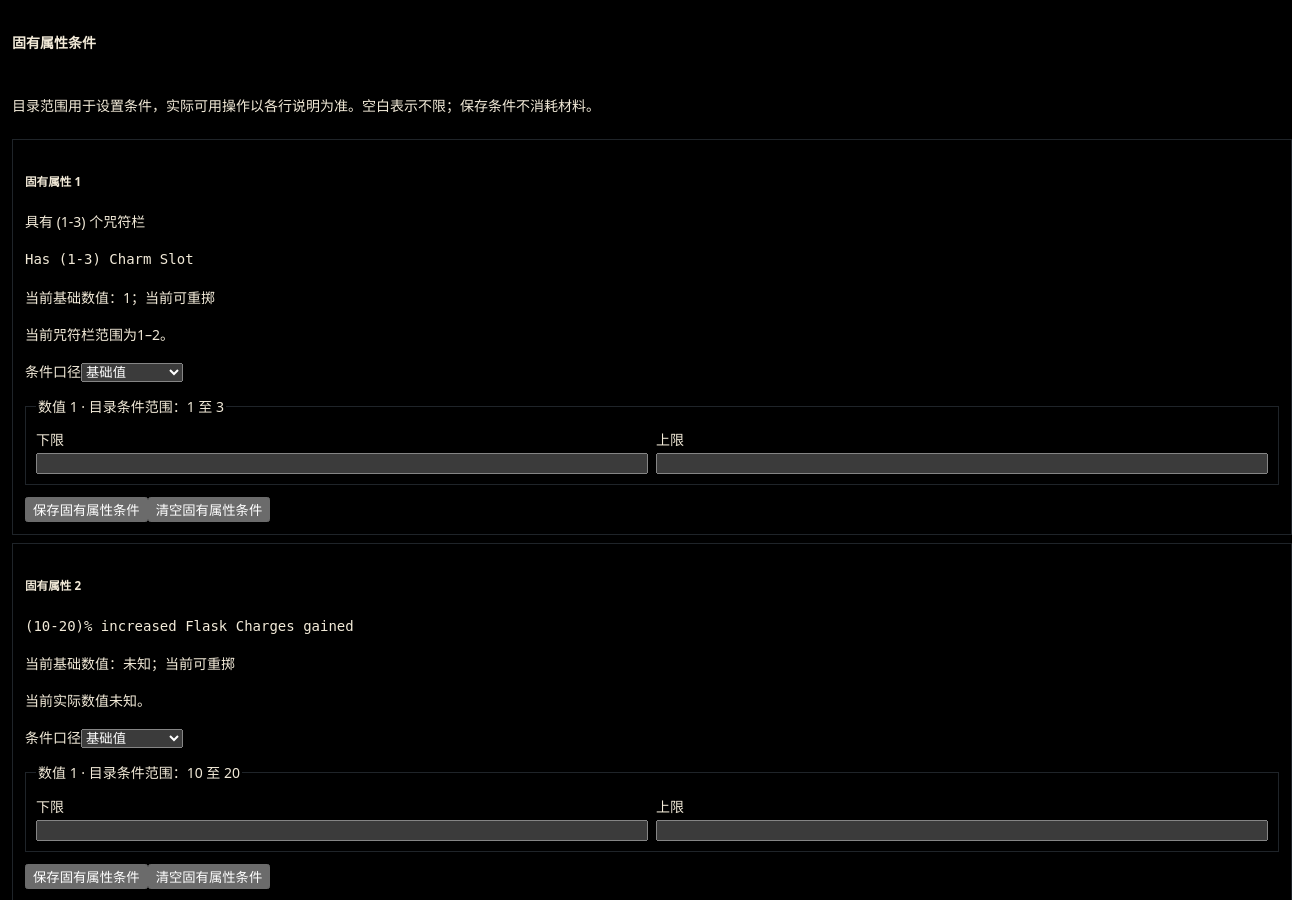
Test case: 未完成数字不会清空已保存条件，越界报错，清空不留旧草稿
This screenshot has width=1292, height=900.
Type "2" into the number field named "固有属性 1 · 数值 1 下限" at coordinates (342, 464), box left=36, top=453, right=648, bottom=474
Click the button with aria-label "保存固有属性 1 条件" at coordinates (86, 510), box left=25, top=497, right=148, bottom=522
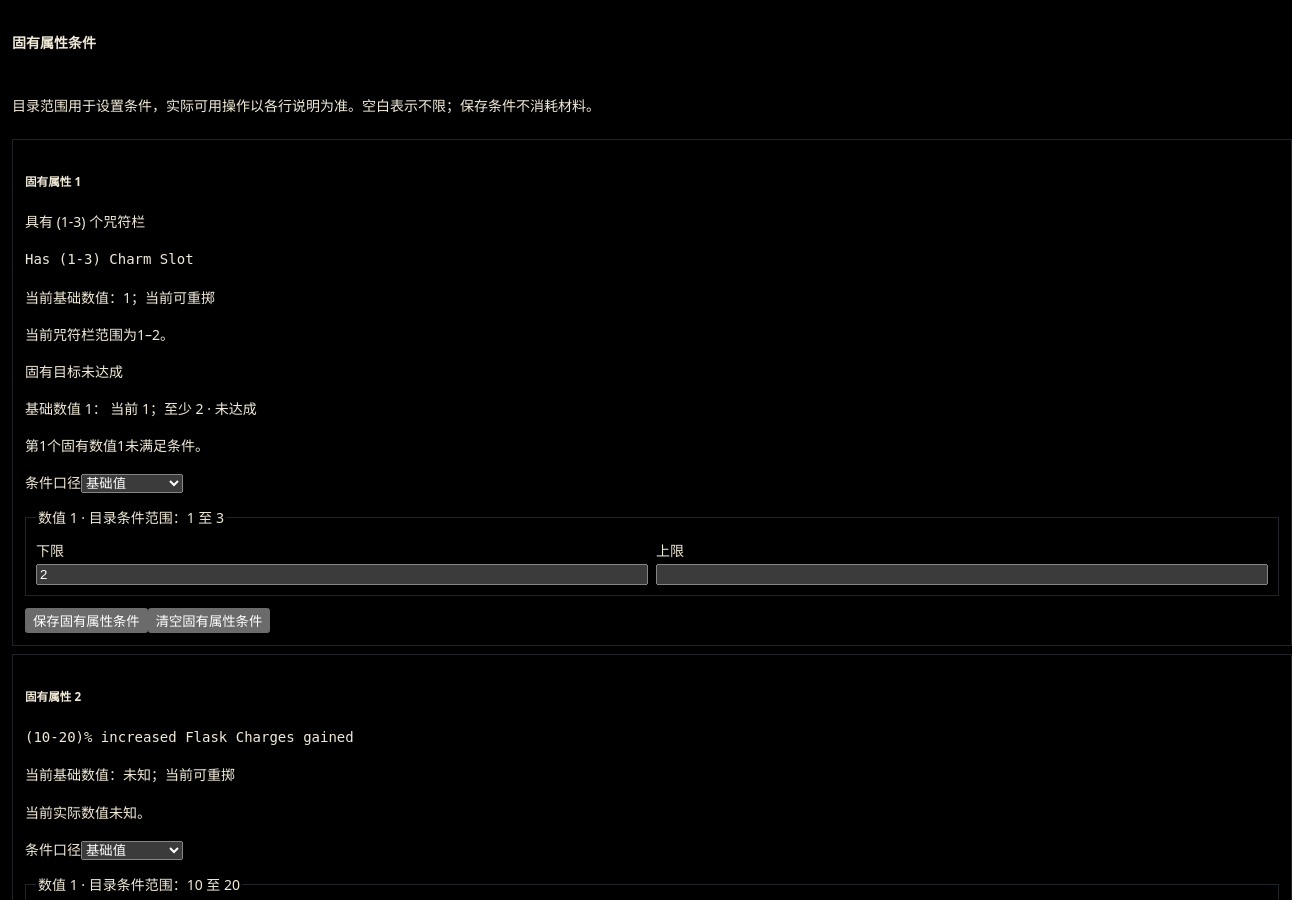
Clear the number field named "固有属性 1 · 数值 1 下限" at coordinates (342, 575), box left=36, top=564, right=648, bottom=585
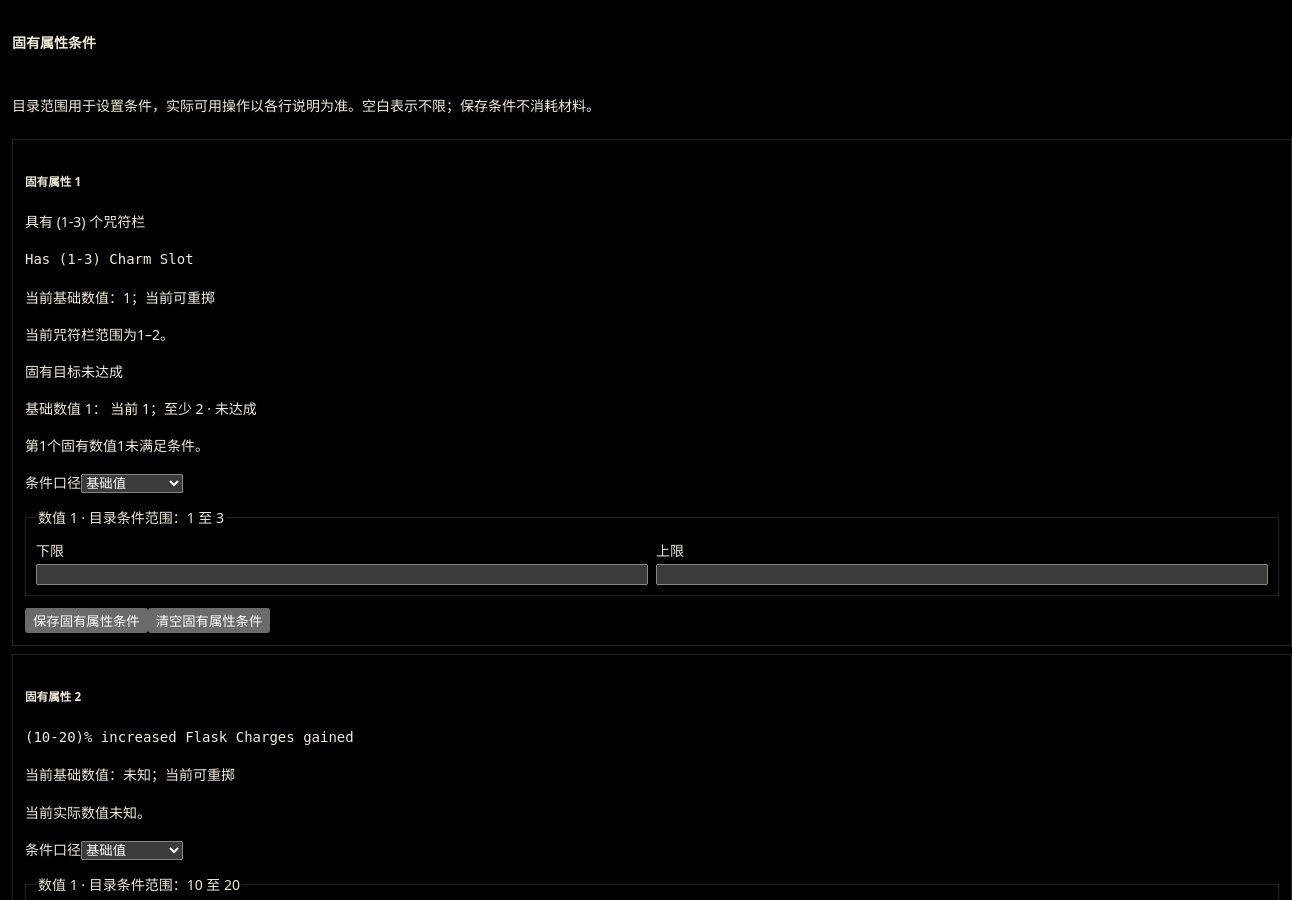
Click the button with aria-label "保存固有属性 1 条件" at coordinates (86, 621), box left=25, top=608, right=148, bottom=633
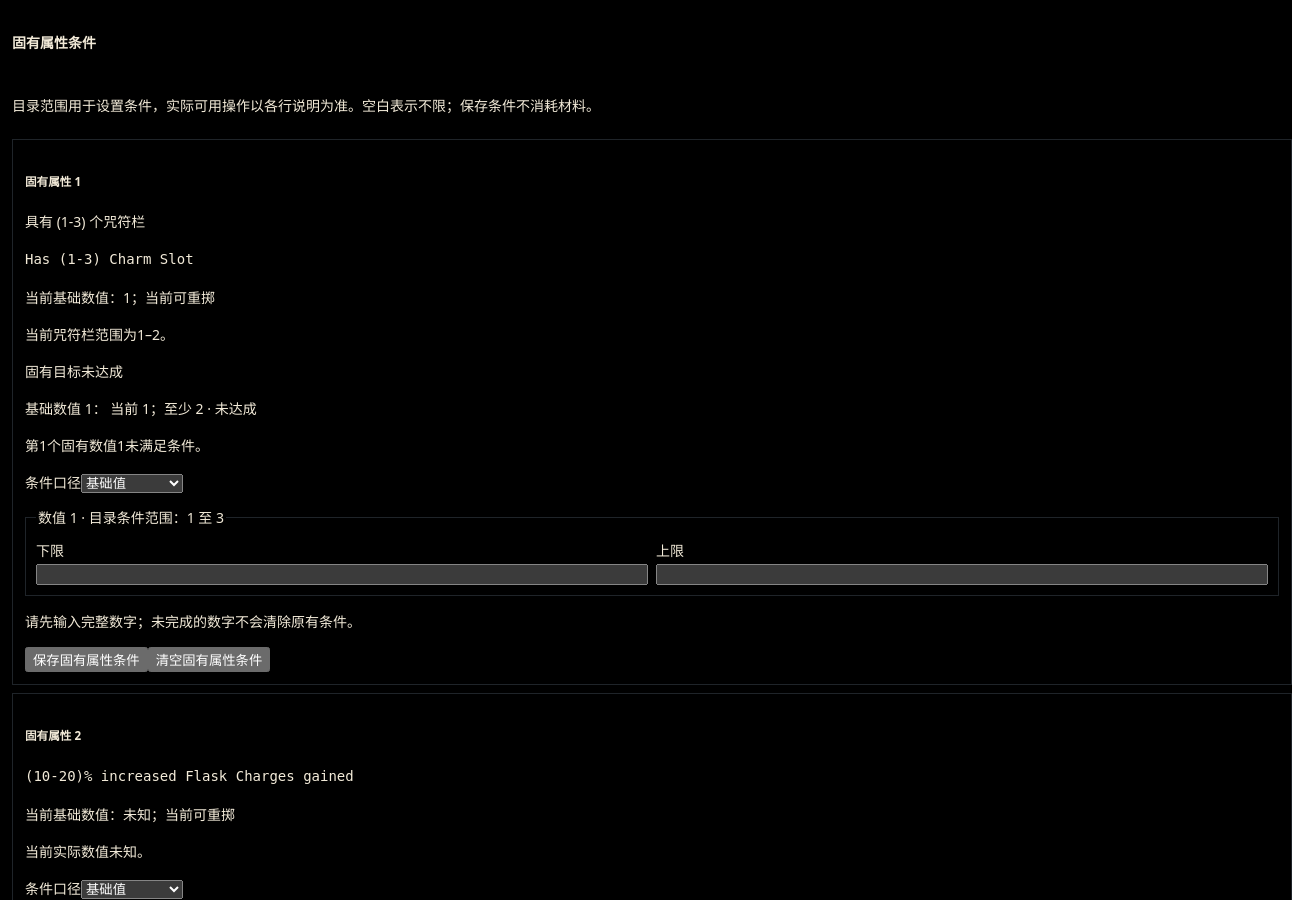
Expected: the message shows "完整数字", left=25, top=612, right=361, bottom=631
Type "4" into the number field named "固有属性 1 · 数值 1 下限" at coordinates (342, 575), box left=36, top=564, right=648, bottom=585
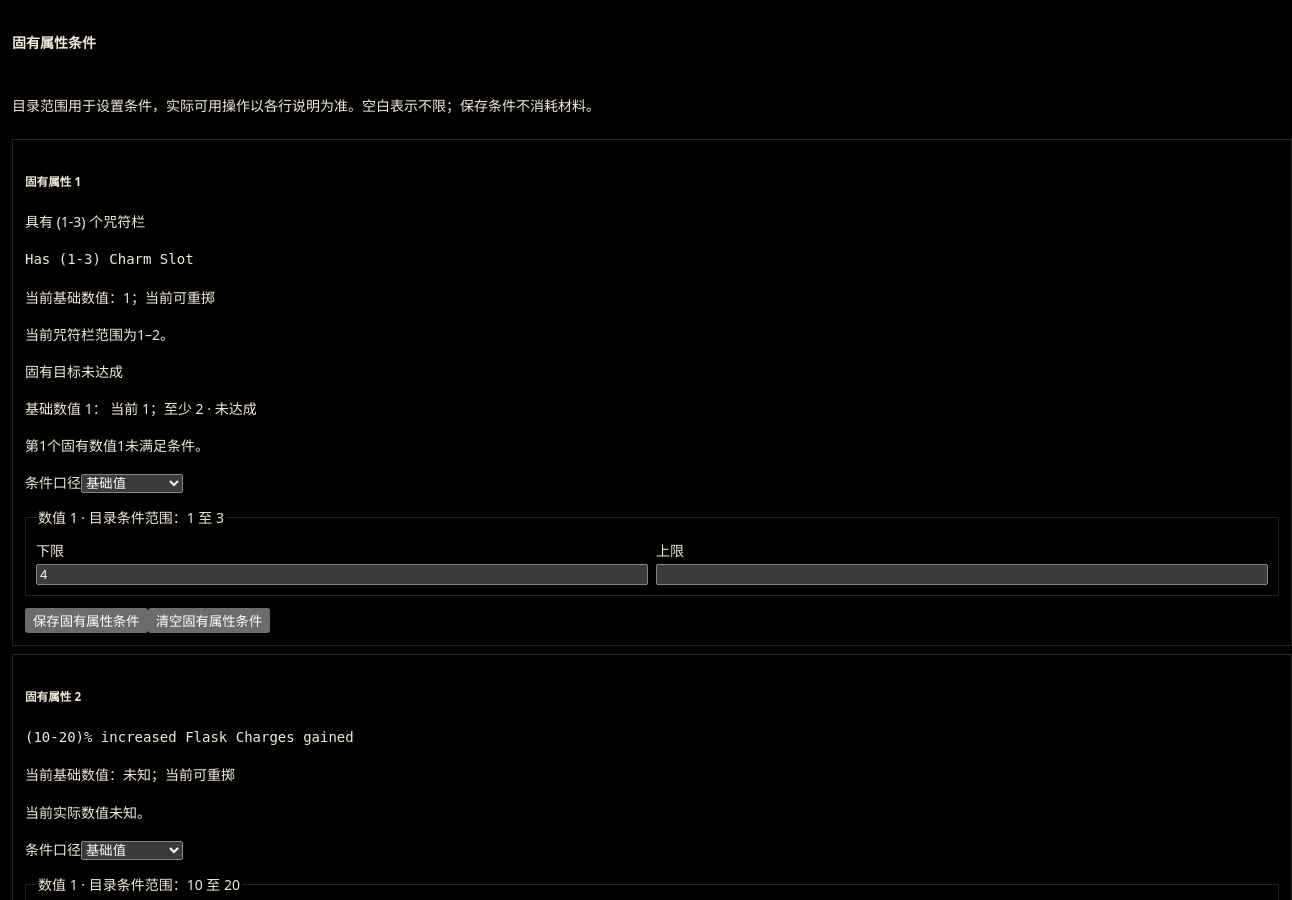
Click the button with aria-label "保存固有属性 1 条件" at coordinates (86, 621), box left=25, top=608, right=148, bottom=633
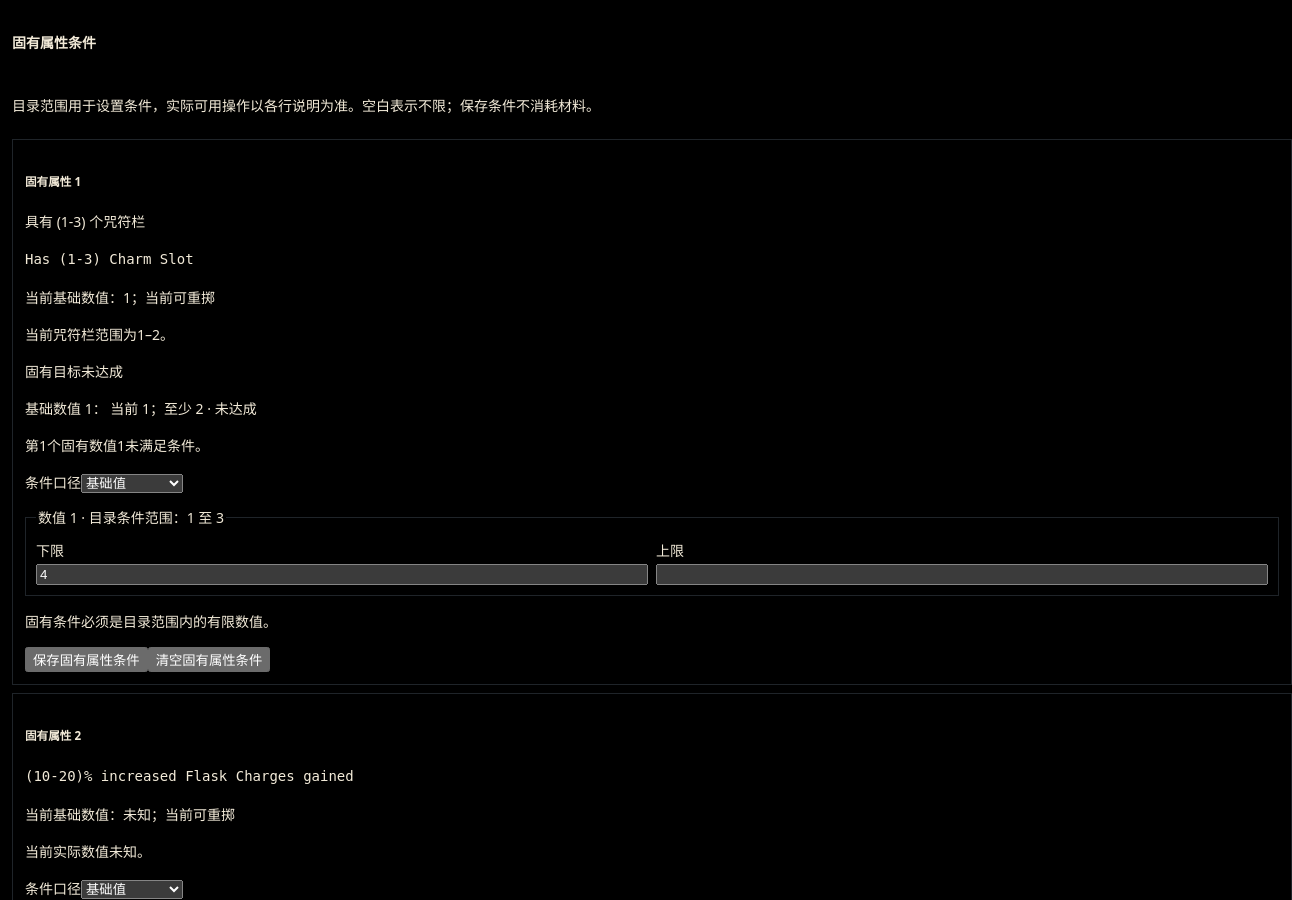
Expected: the message "固有条件必须是目录范围内的有限数值。" is shown, left=25, top=612, right=277, bottom=631
Click the button with aria-label "清空固有属性 1 条件" at coordinates (209, 660), box left=148, top=648, right=270, bottom=672
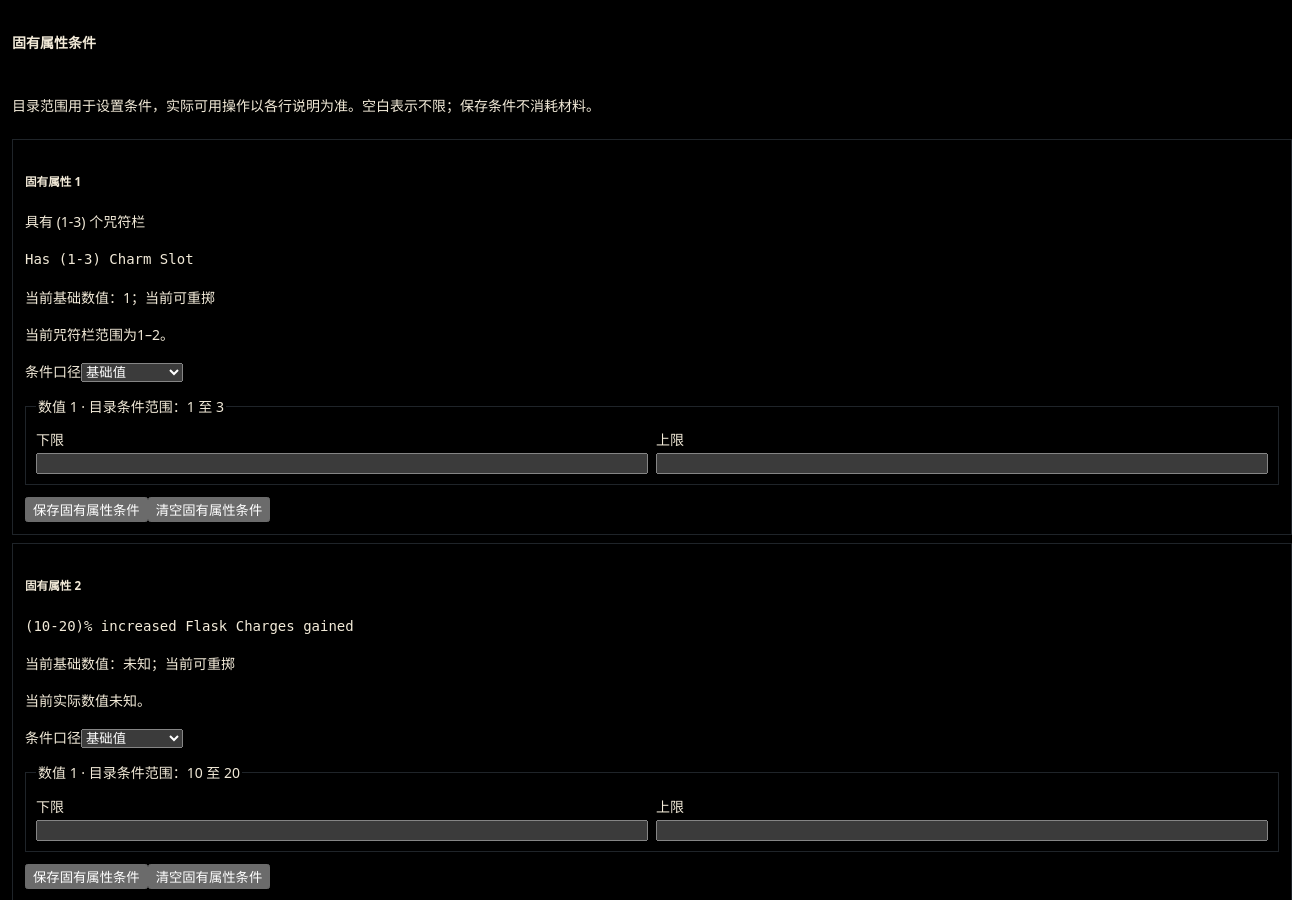
Expected: the number field named "固有属性 1 · 数值 1 下限" is empty, left=36, top=453, right=648, bottom=474
